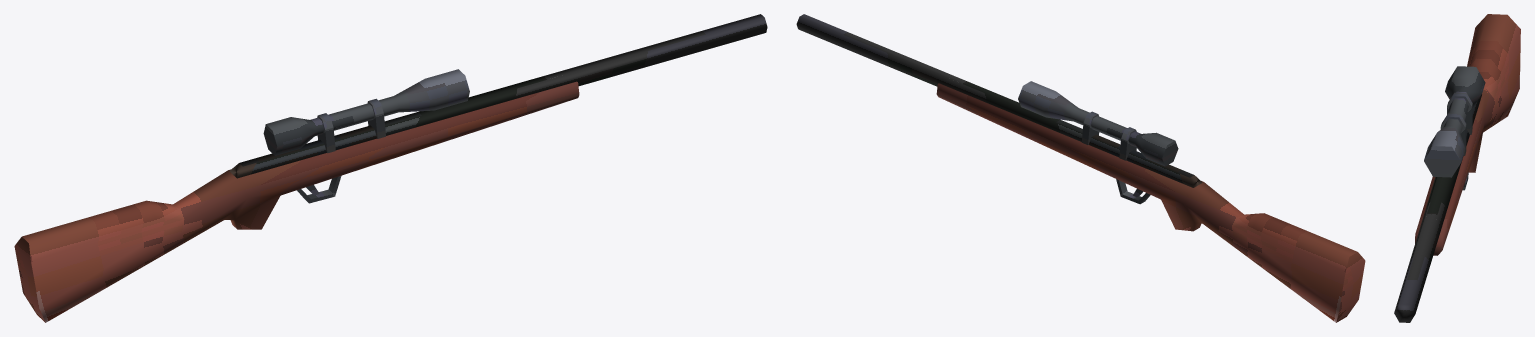
The model's file is Sniper.fbx.
3 renders of one model, left to right at view 1: azimuth 30°, elevation 25°; view 2: azimuth 150°, elevation 25°; view 3: azimuth 270°, elevation 25°, orthographic. The views are drawn at different scales.
Visible parts, largest first — view 1: sniper; view 2: sniper; view 3: sniper.
Boxes of the visible parts, x1,y1,x2,y2 form: sniper: (14,14,767,322); sniper: (796,14,1365,322); sniper: (1394,14,1520,322).
Size of the model in its own units: 108 by 24.54 by 14.91.
1 material, 1 textured.
